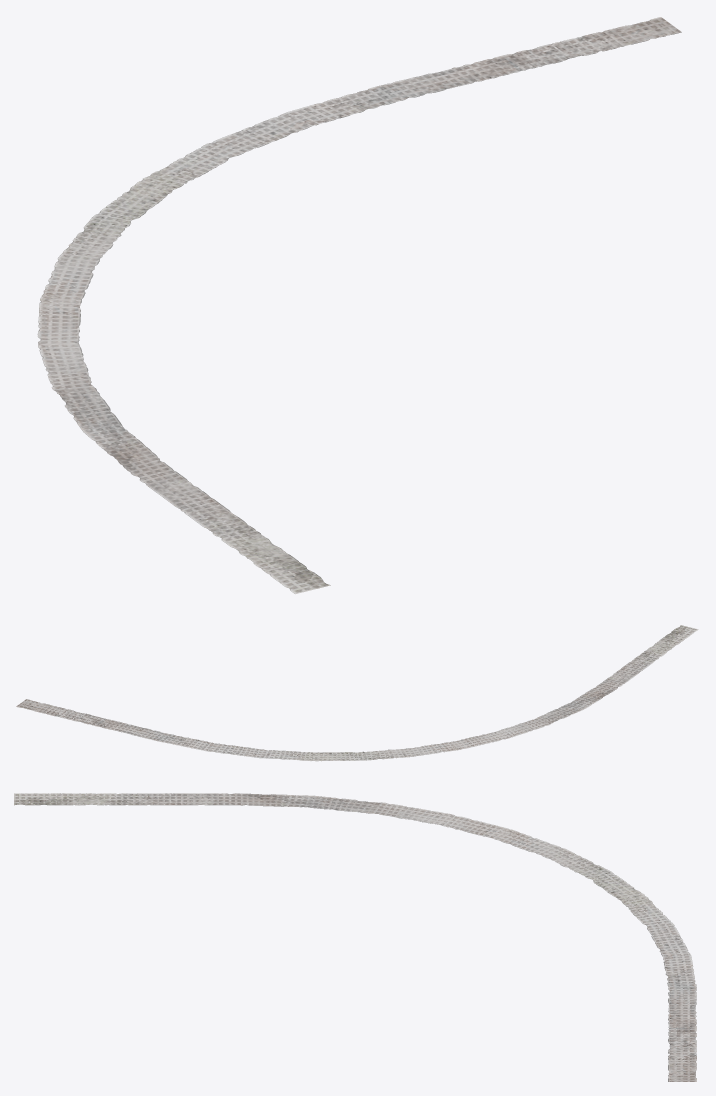
Rendered from CP_Road_Line_A_Angle_02.fbx.
3 renders of one model, top to bottom at view 1: azimuth 30°, elevation 25°; view 2: azimuth 150°, elevation 25°; view 3: azimuth 270°, elevation 25°, orthographic. The views are drawn at different scales.
Parts seen in each view (by area): view 1: CP_Road_Line_A_Angle_02; view 2: CP_Road_Line_A_Angle_02; view 3: CP_Road_Line_A_Angle_02.
Boxes of the visible parts, bbox=[...] form: CP_Road_Line_A_Angle_02: bbox=[37, 17, 681, 593]; CP_Road_Line_A_Angle_02: bbox=[16, 625, 698, 761]; CP_Road_Line_A_Angle_02: bbox=[14, 793, 696, 1081].
Bounding box in the file's own units: 309 × 1.19e-07 × 309.
